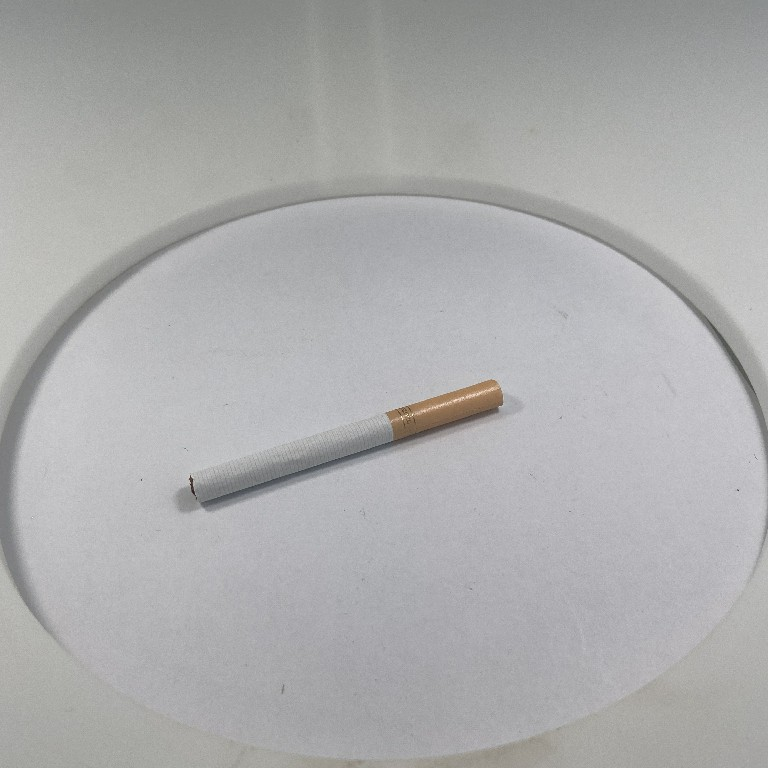cigarette: (185, 373, 506, 513)
